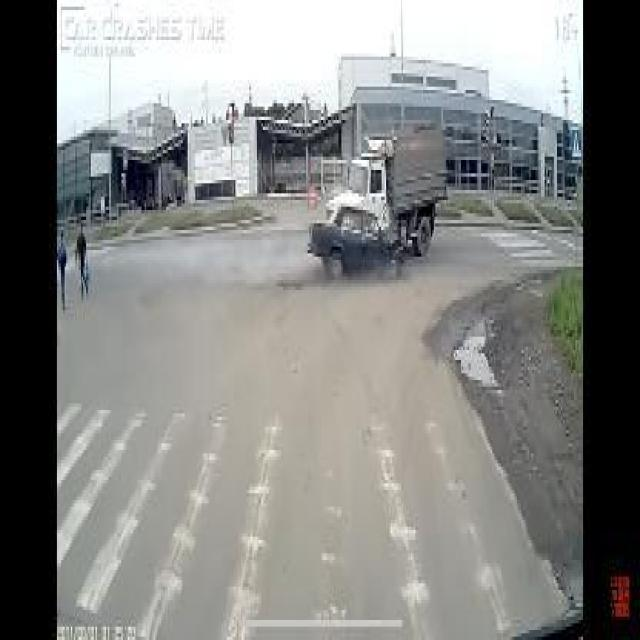accident: (306, 118, 448, 282)
